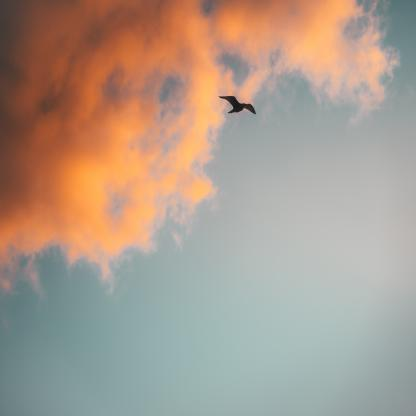bird: (218, 96, 257, 114)
